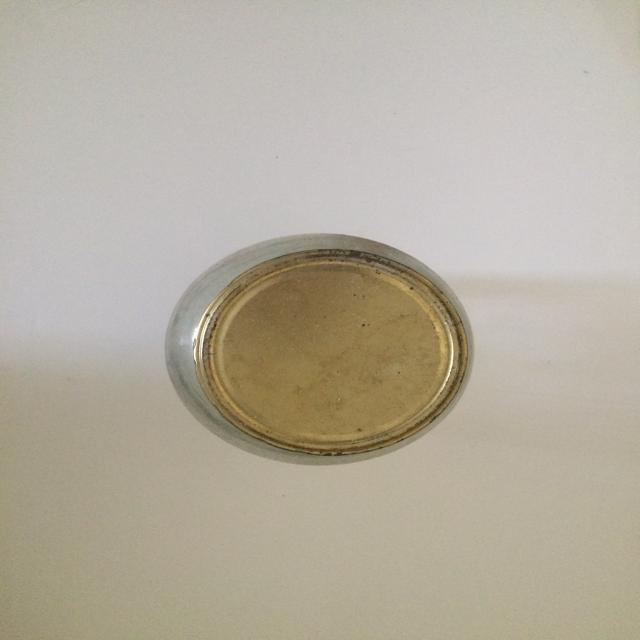glass: (162, 232, 476, 466)
